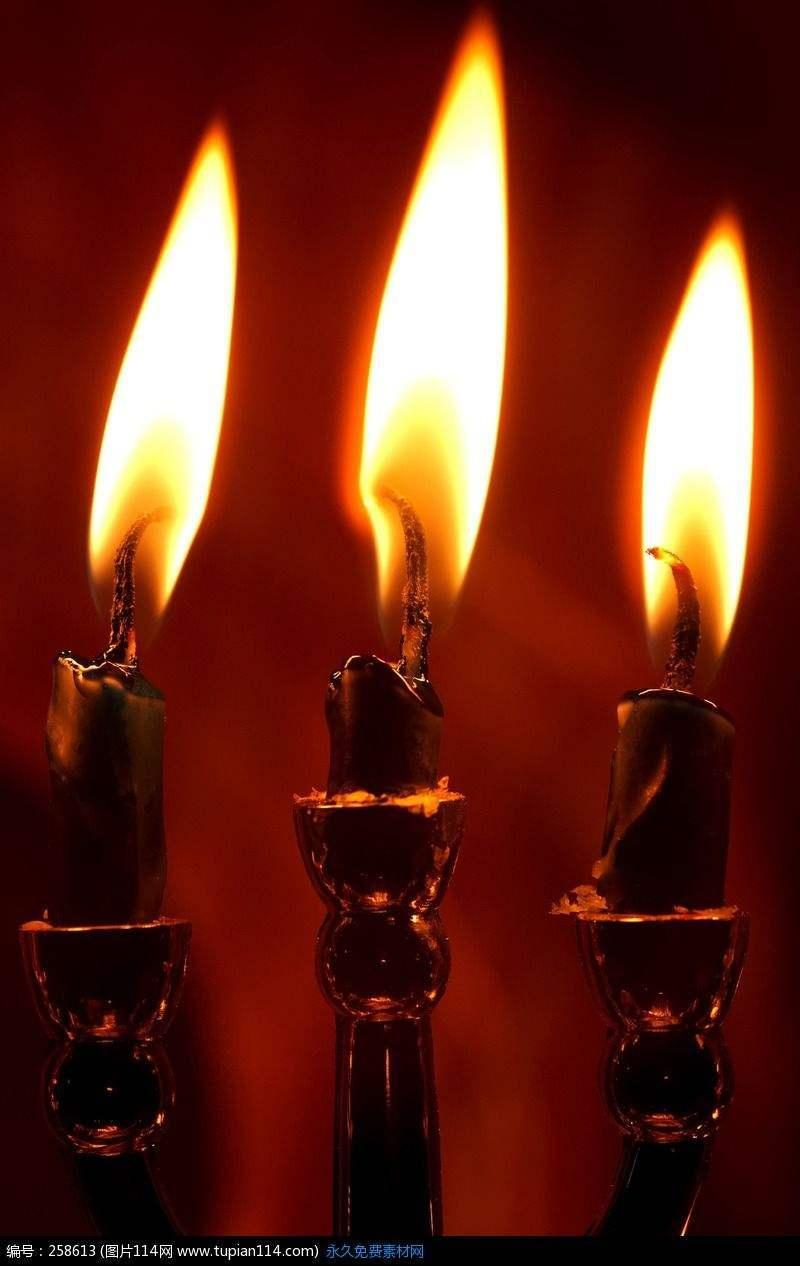fire: (341, 23, 529, 662), (64, 91, 244, 643), (614, 164, 765, 682)
